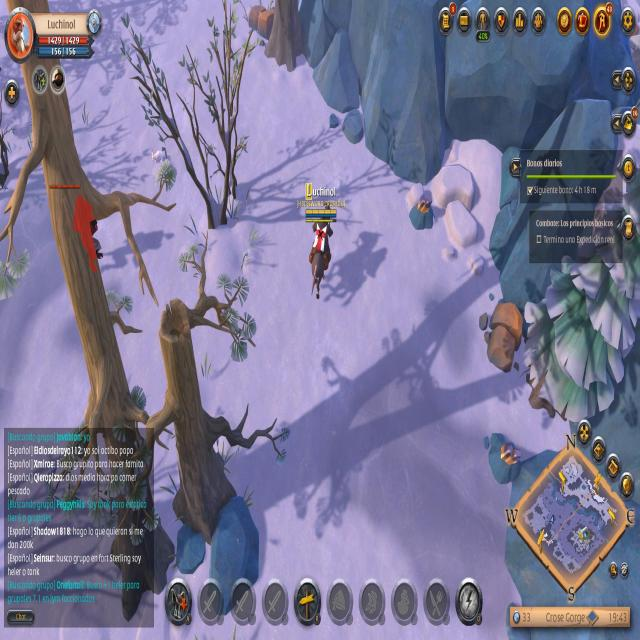piedra_cobre: (486, 433, 520, 483), (408, 192, 431, 230)
